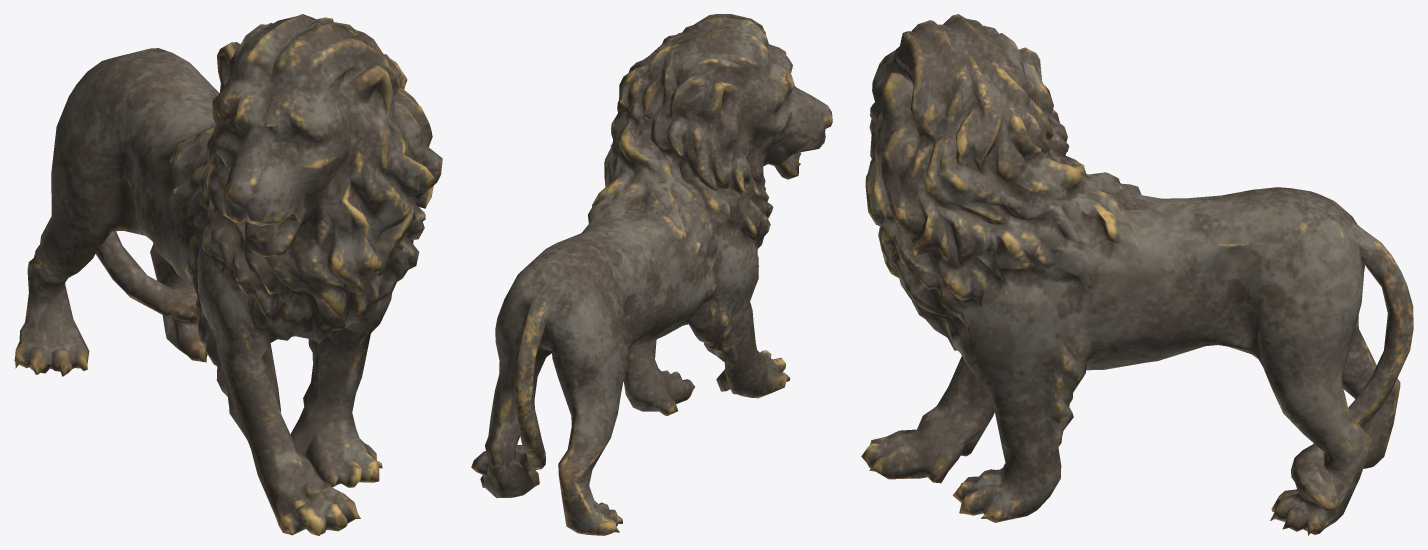
File: Lion_statue.fbx
The picture shows the model from 3 angles, left to right: view 1: azimuth 30°, elevation 25°; view 2: azimuth 150°, elevation 25°; view 3: azimuth 270°, elevation 25°; orthographic projection. The views are drawn at different scales.
Parts seen in each view (by area): view 1: SM_LionStatue_LOD0; view 2: SM_LionStatue_LOD0; view 3: SM_LionStatue_LOD0.
Part boxes in pixels (x1=…): SM_LionStatue_LOD0: x1=14, y1=14, x2=442, y2=535; SM_LionStatue_LOD0: x1=471, y1=14, x2=832, y2=535; SM_LionStatue_LOD0: x1=861, y1=14, x2=1413, y2=535.
Size of the model in its own units: 60.91 by 122 by 134.
